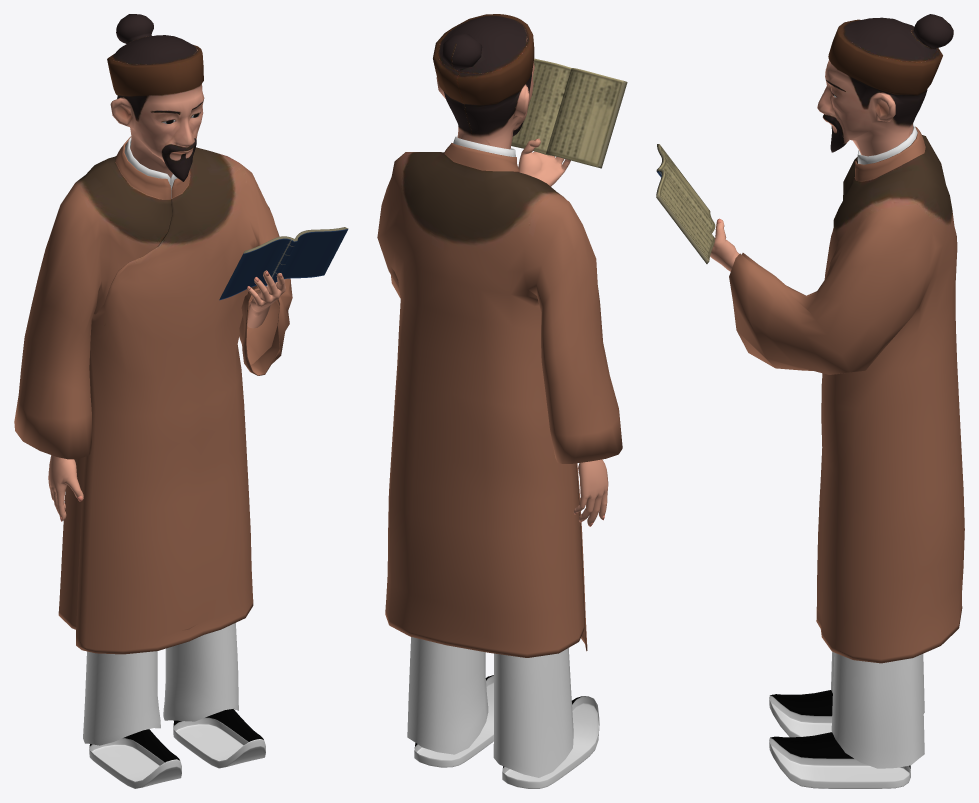
The picture shows the model from 3 angles, left to right: view 1: azimuth 30°, elevation 25°; view 2: azimuth 150°, elevation 25°; view 3: azimuth 270°, elevation 25°; orthographic projection. The views are drawn at different scales.
Parts seen in each view (by area): view 1: Circle.004, Circle.005, BSurfaceMesh, Circle.006, BézierCurve, Hand; view 2: Circle.004, Circle.005, BSurfaceMesh, BézierCurve, Circle.006, Hand; view 3: Circle.004, BSurfaceMesh, Circle.005, Circle.006, BézierCurve, Hand.
Part boxes in pixels (x1,y1,x2,y2): Circle.004: (14, 136, 292, 654); Circle.005: (83, 137, 238, 745); BSurfaceMesh: (107, 14, 204, 181); Circle.006: (89, 709, 265, 788); BézierCurve: (219, 227, 348, 300); Hand: (48, 270, 285, 521); Circle.004: (377, 143, 622, 657); Circle.005: (407, 136, 573, 777); BSurfaceMesh: (433, 14, 534, 149); BézierCurve: (511, 58, 627, 168); Circle.006: (414, 675, 599, 788); Hand: (518, 138, 608, 526); Circle.004: (729, 126, 964, 663); BSurfaceMesh: (817, 14, 953, 156); Circle.005: (831, 123, 924, 768); Circle.006: (769, 690, 910, 788); BézierCurve: (656, 144, 715, 263); Hand: (710, 218, 738, 271).
Size of the model in its own units: 1.61 by 4.6 by 1.74.
Materials: 11 (6 with a texture image).
